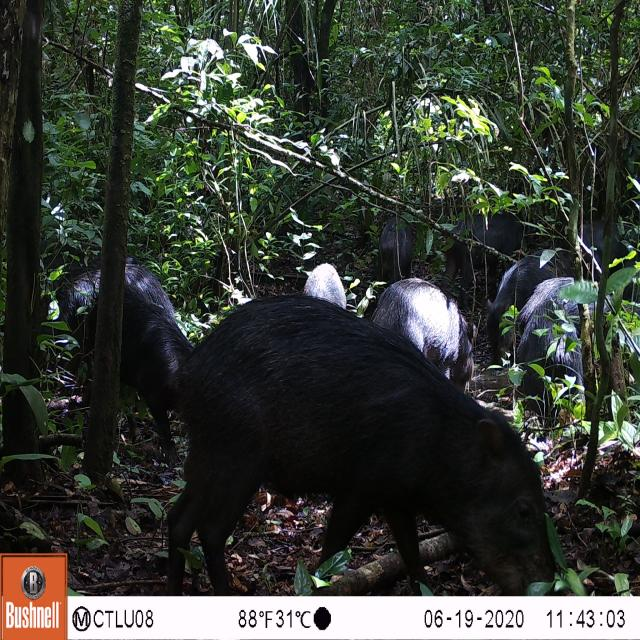Collared Peccary: (154, 277, 571, 596), (34, 247, 199, 475), (432, 188, 544, 299), (565, 196, 640, 288), (373, 208, 425, 296)
